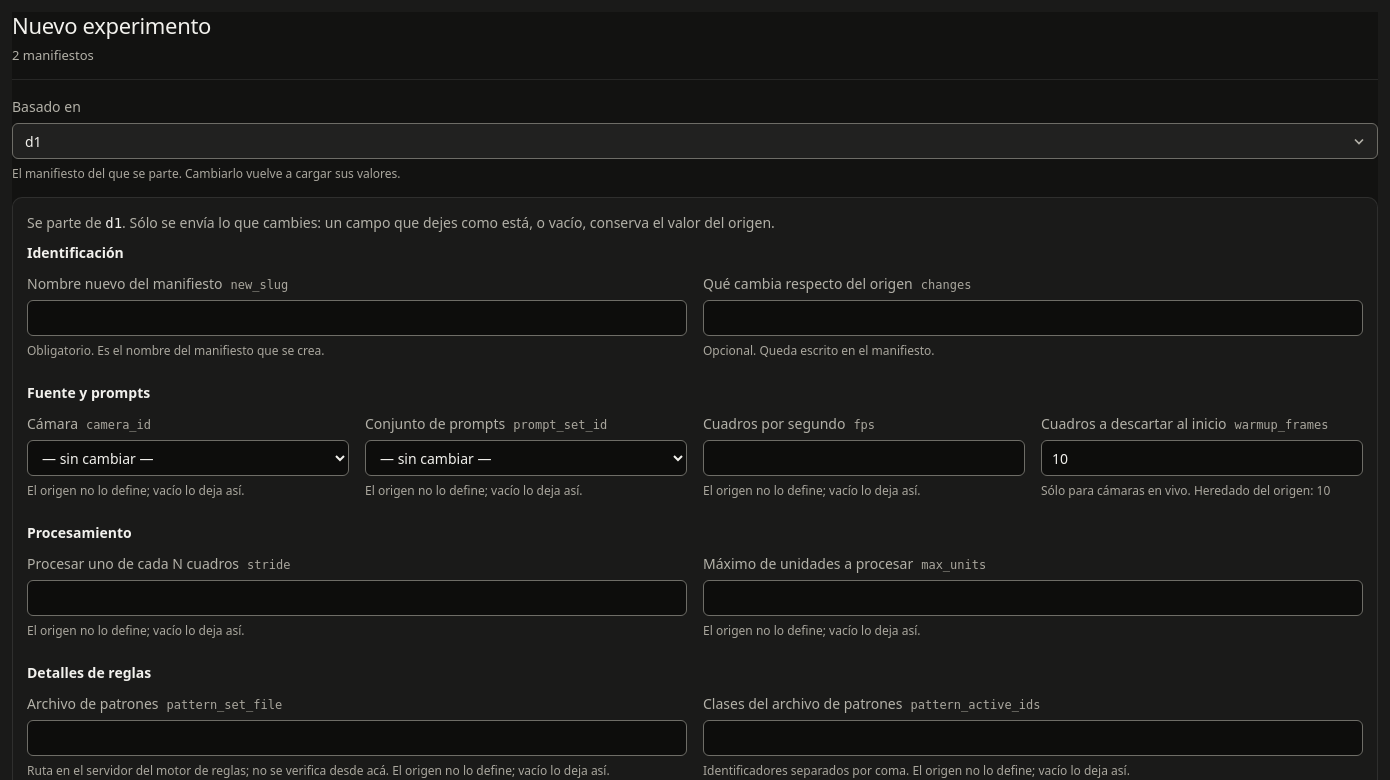
Scenario: ExperimentsPage - crear nuevo experimento (/experiments/new) › al cambiar la fuente en el selector, vuelve a pedir los defaults y reprecarga los campos (bug central)
Expected: the field labelled "Cuadros a descartar al inicio warmup_frames" holds "10", [1041,440,1363,476]
Click the button named "Basado en": (33, 141) [12,123,1378,159]
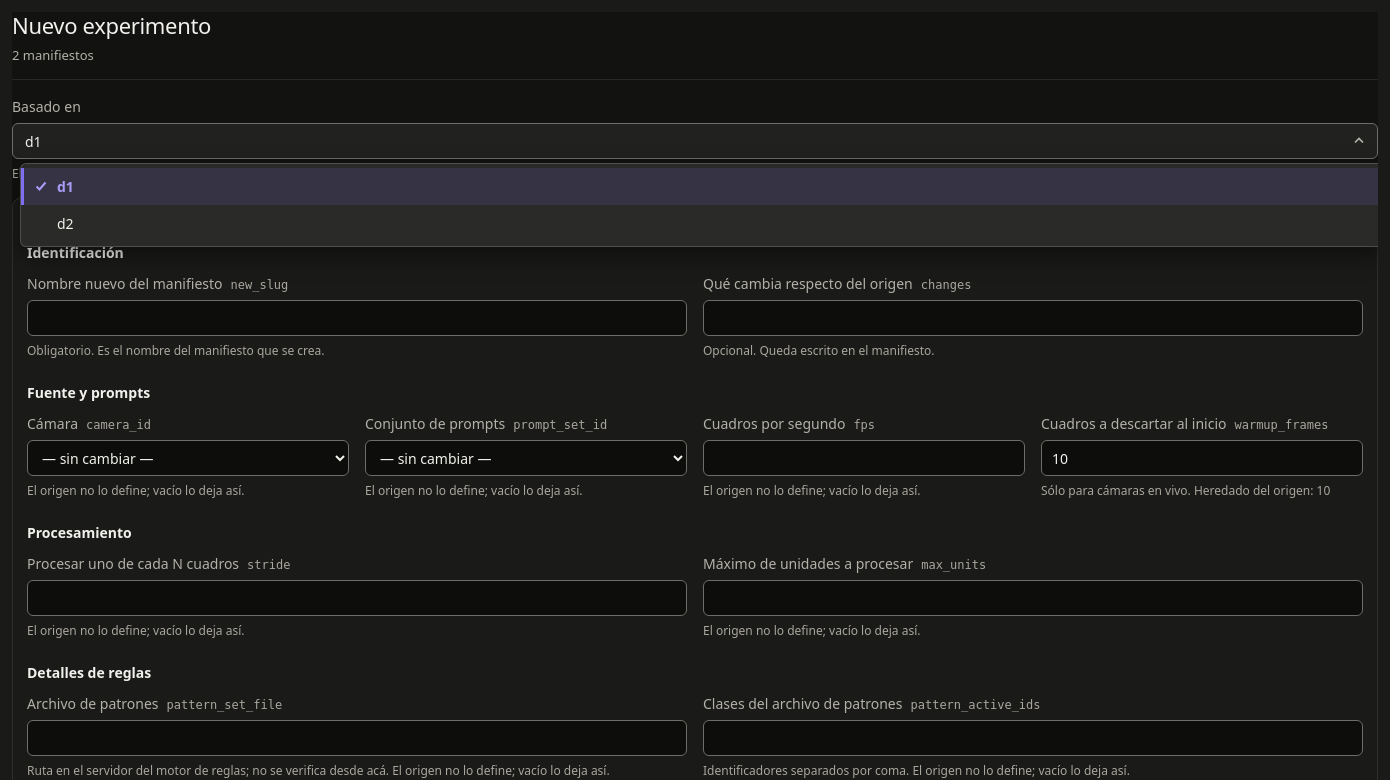
Click the option "d2": (65, 224) [57,214,74,233]
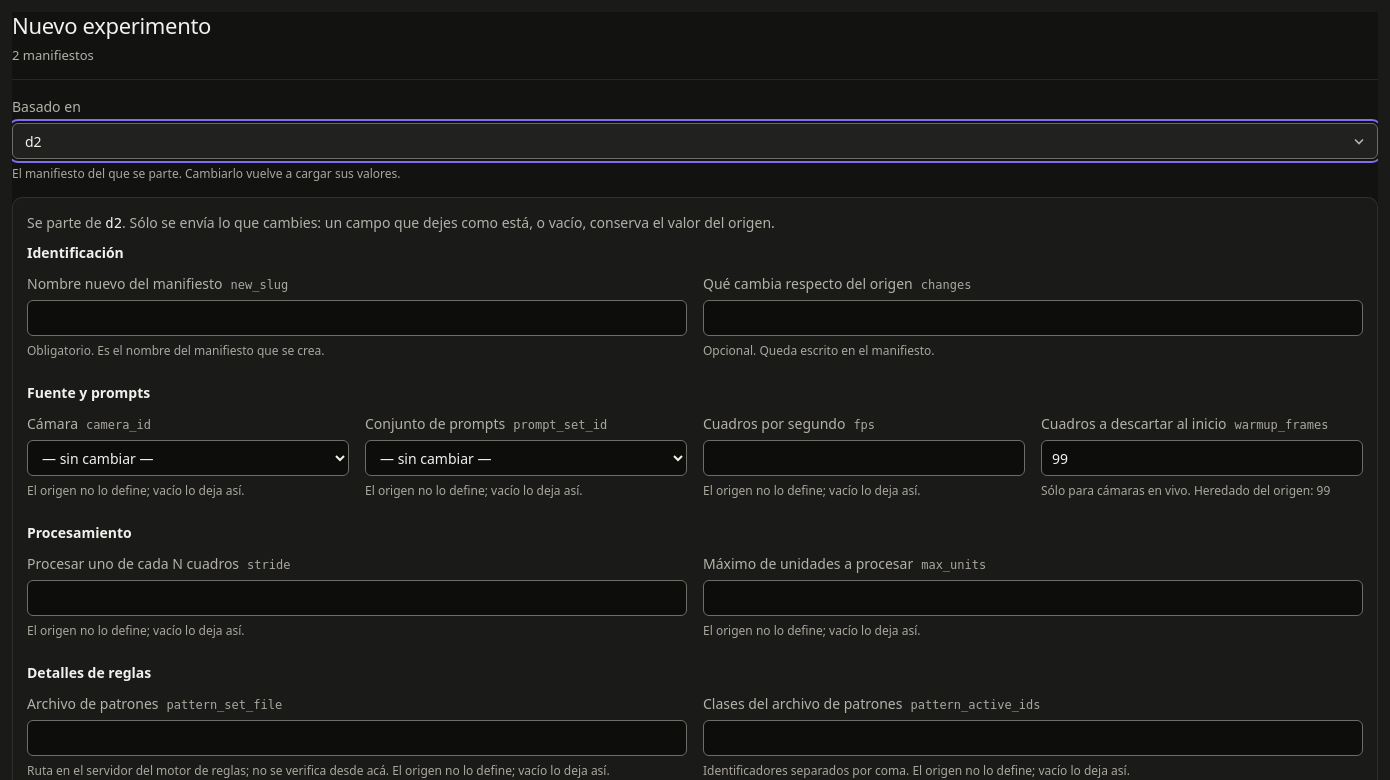
Now the field labelled "Cuadros a descartar al inicio warmup_frames" holds "99", box [1041,440,1363,476]
